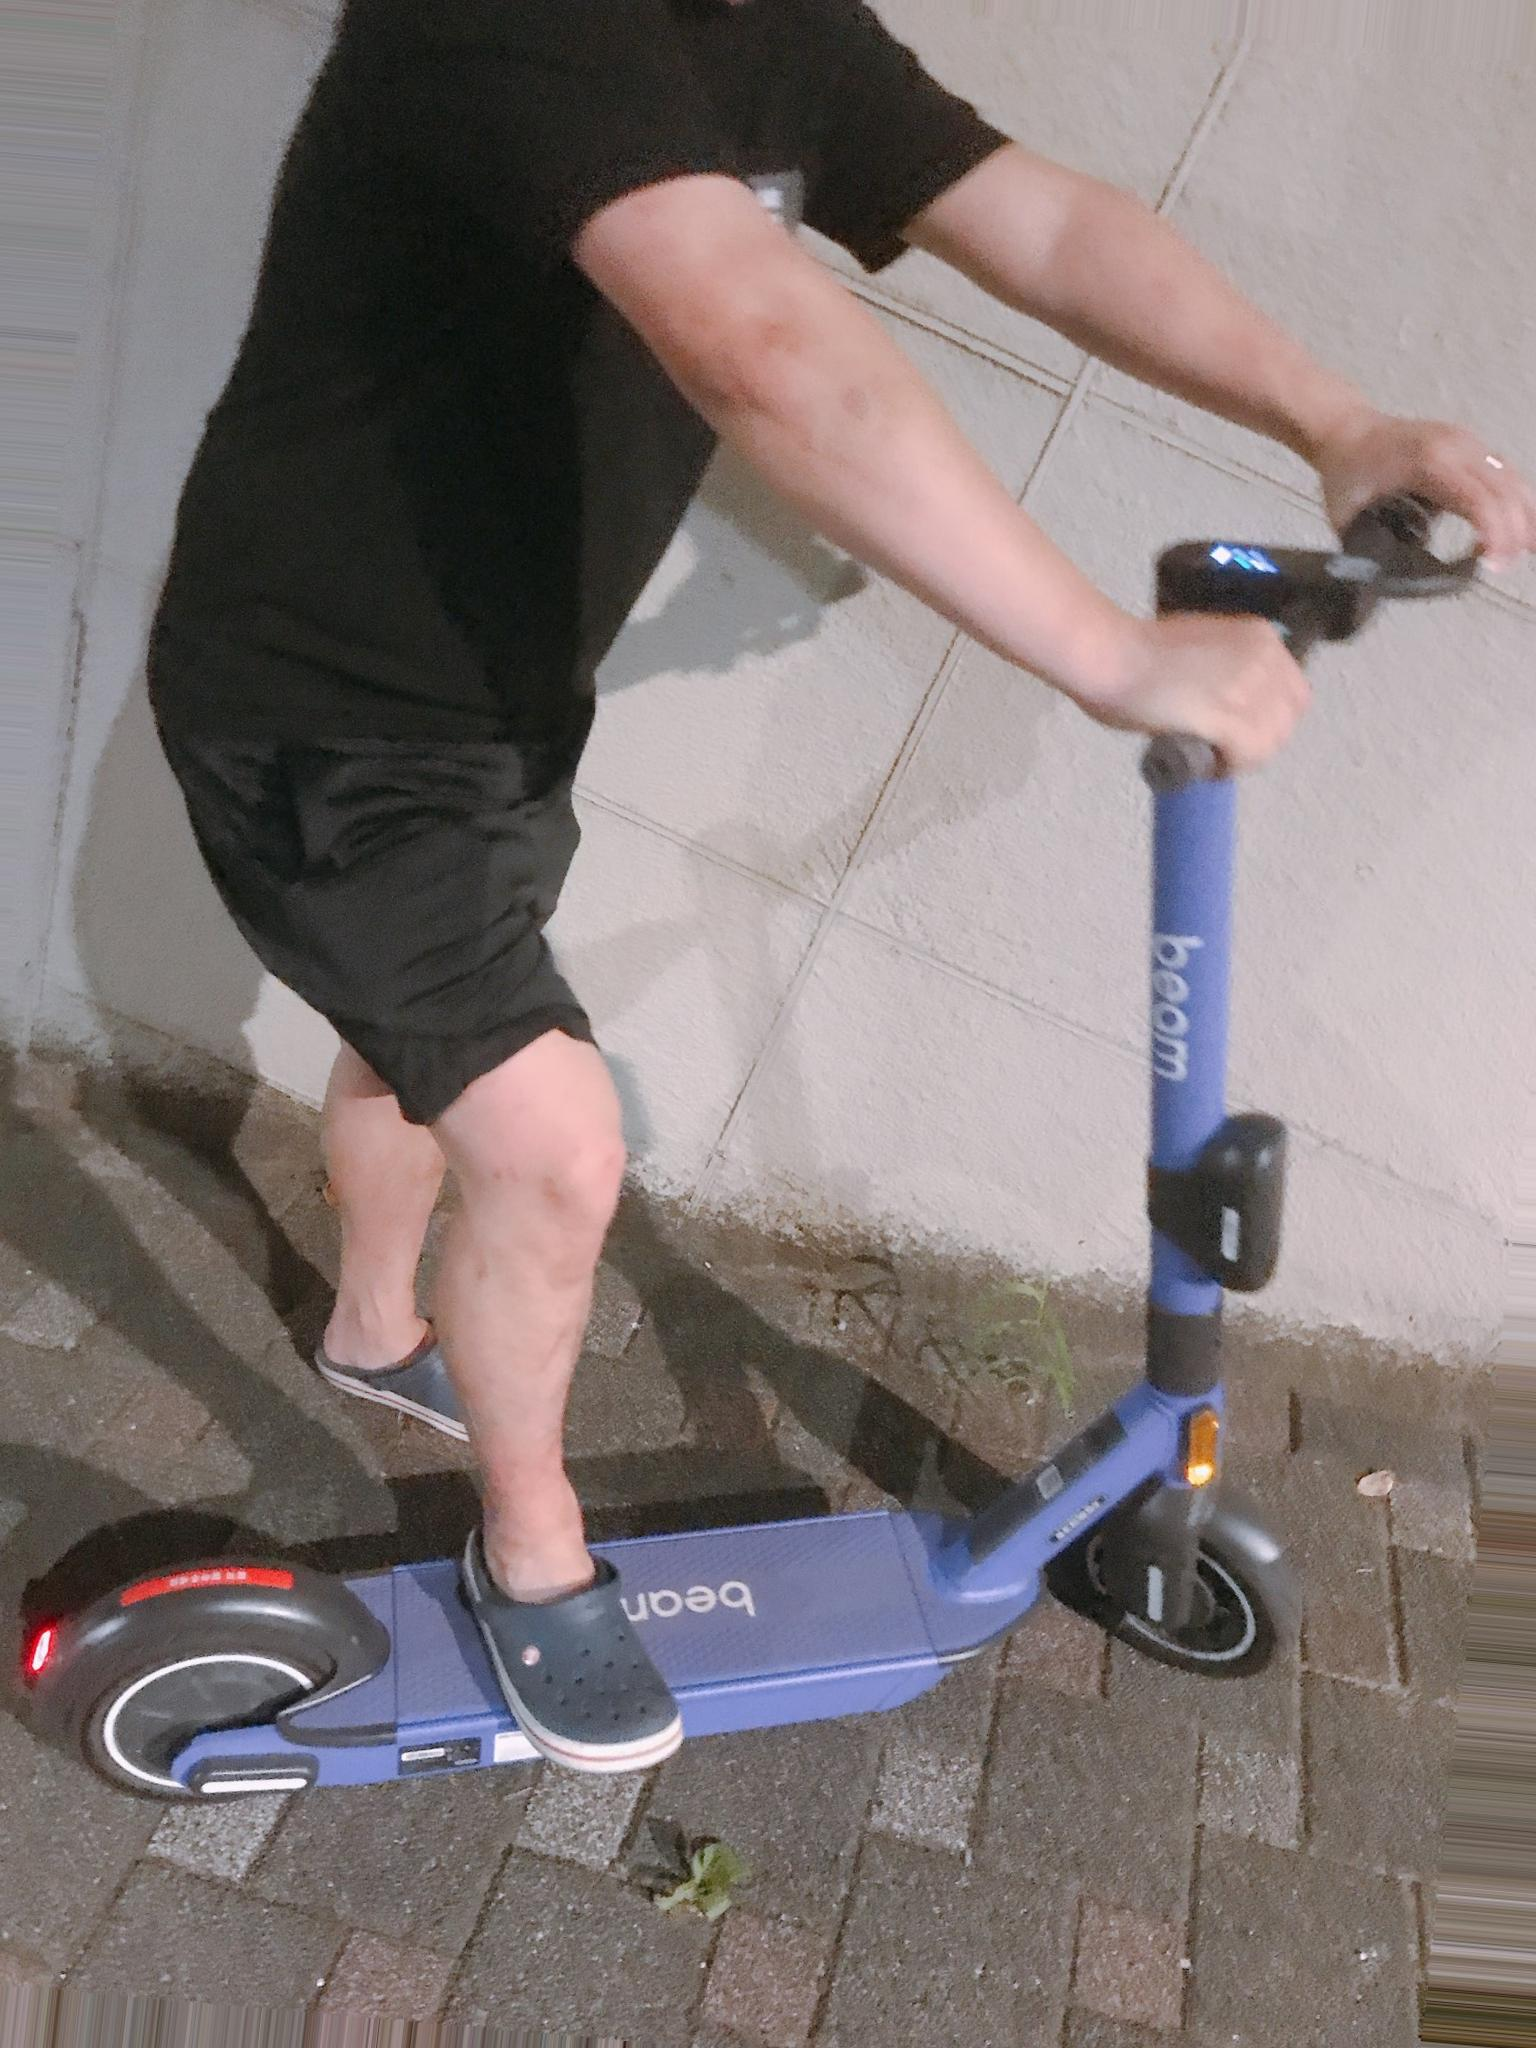scooter: (27, 427, 1512, 1804)
